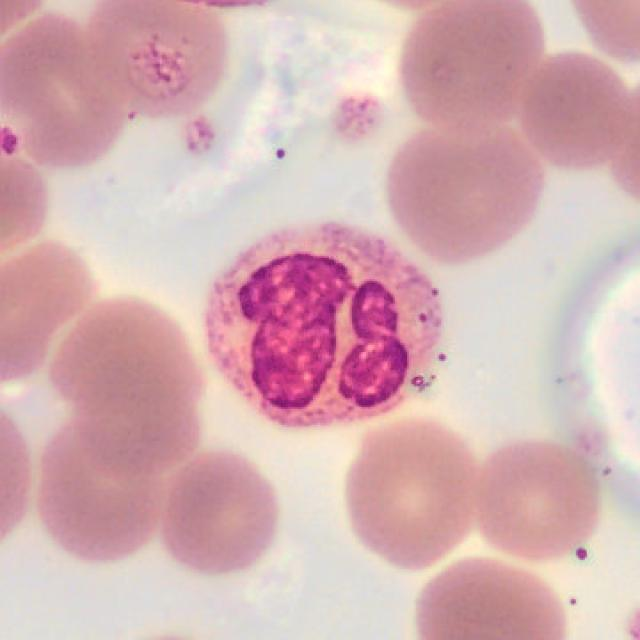Neutrofilo segmentado: (204, 222, 444, 430)
